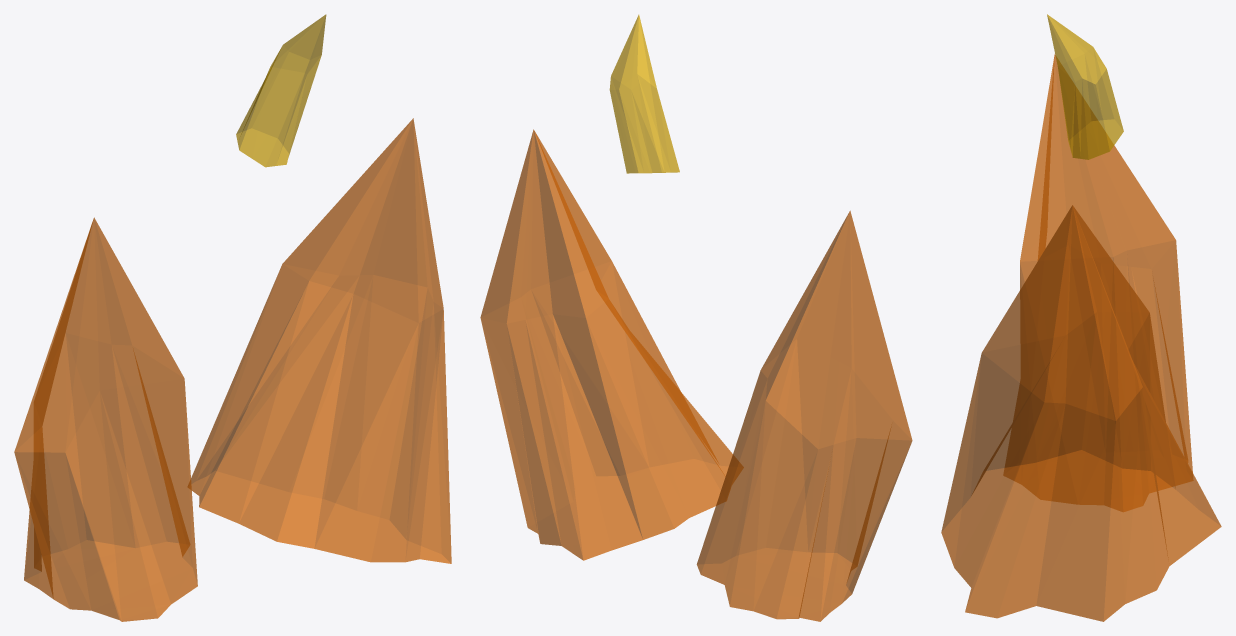
The model's file is fireSec3.dae.
3 renders of one model, left to right at view 1: azimuth 30°, elevation 25°; view 2: azimuth 150°, elevation 25°; view 3: azimuth 270°, elevation 25°, orthographic. The views are drawn at different scales.
Visible parts, largest first — view 1: dFlame3, dFlame4, yFlame4; view 2: dFlame3, dFlame4, yFlame4; view 3: dFlame3, dFlame4, yFlame4.
Part boxes in pixels (left/top/right/bottom): dFlame3: left=188, top=118, right=451, bottom=563; dFlame4: left=14, top=217, right=197, bottom=621; yFlame4: left=236, top=14, right=326, bottom=167; dFlame3: left=480, top=129, right=743, bottom=560; dFlame4: left=696, top=210, right=912, bottom=621; yFlame4: left=609, top=14, right=679, bottom=173; dFlame3: left=941, top=205, right=1221, bottom=621; dFlame4: left=1004, top=54, right=1192, bottom=511; yFlame4: left=1047, top=14, right=1123, bottom=159.
Size of the model in its own units: 1.33 by 0.7208 by 1.6.
